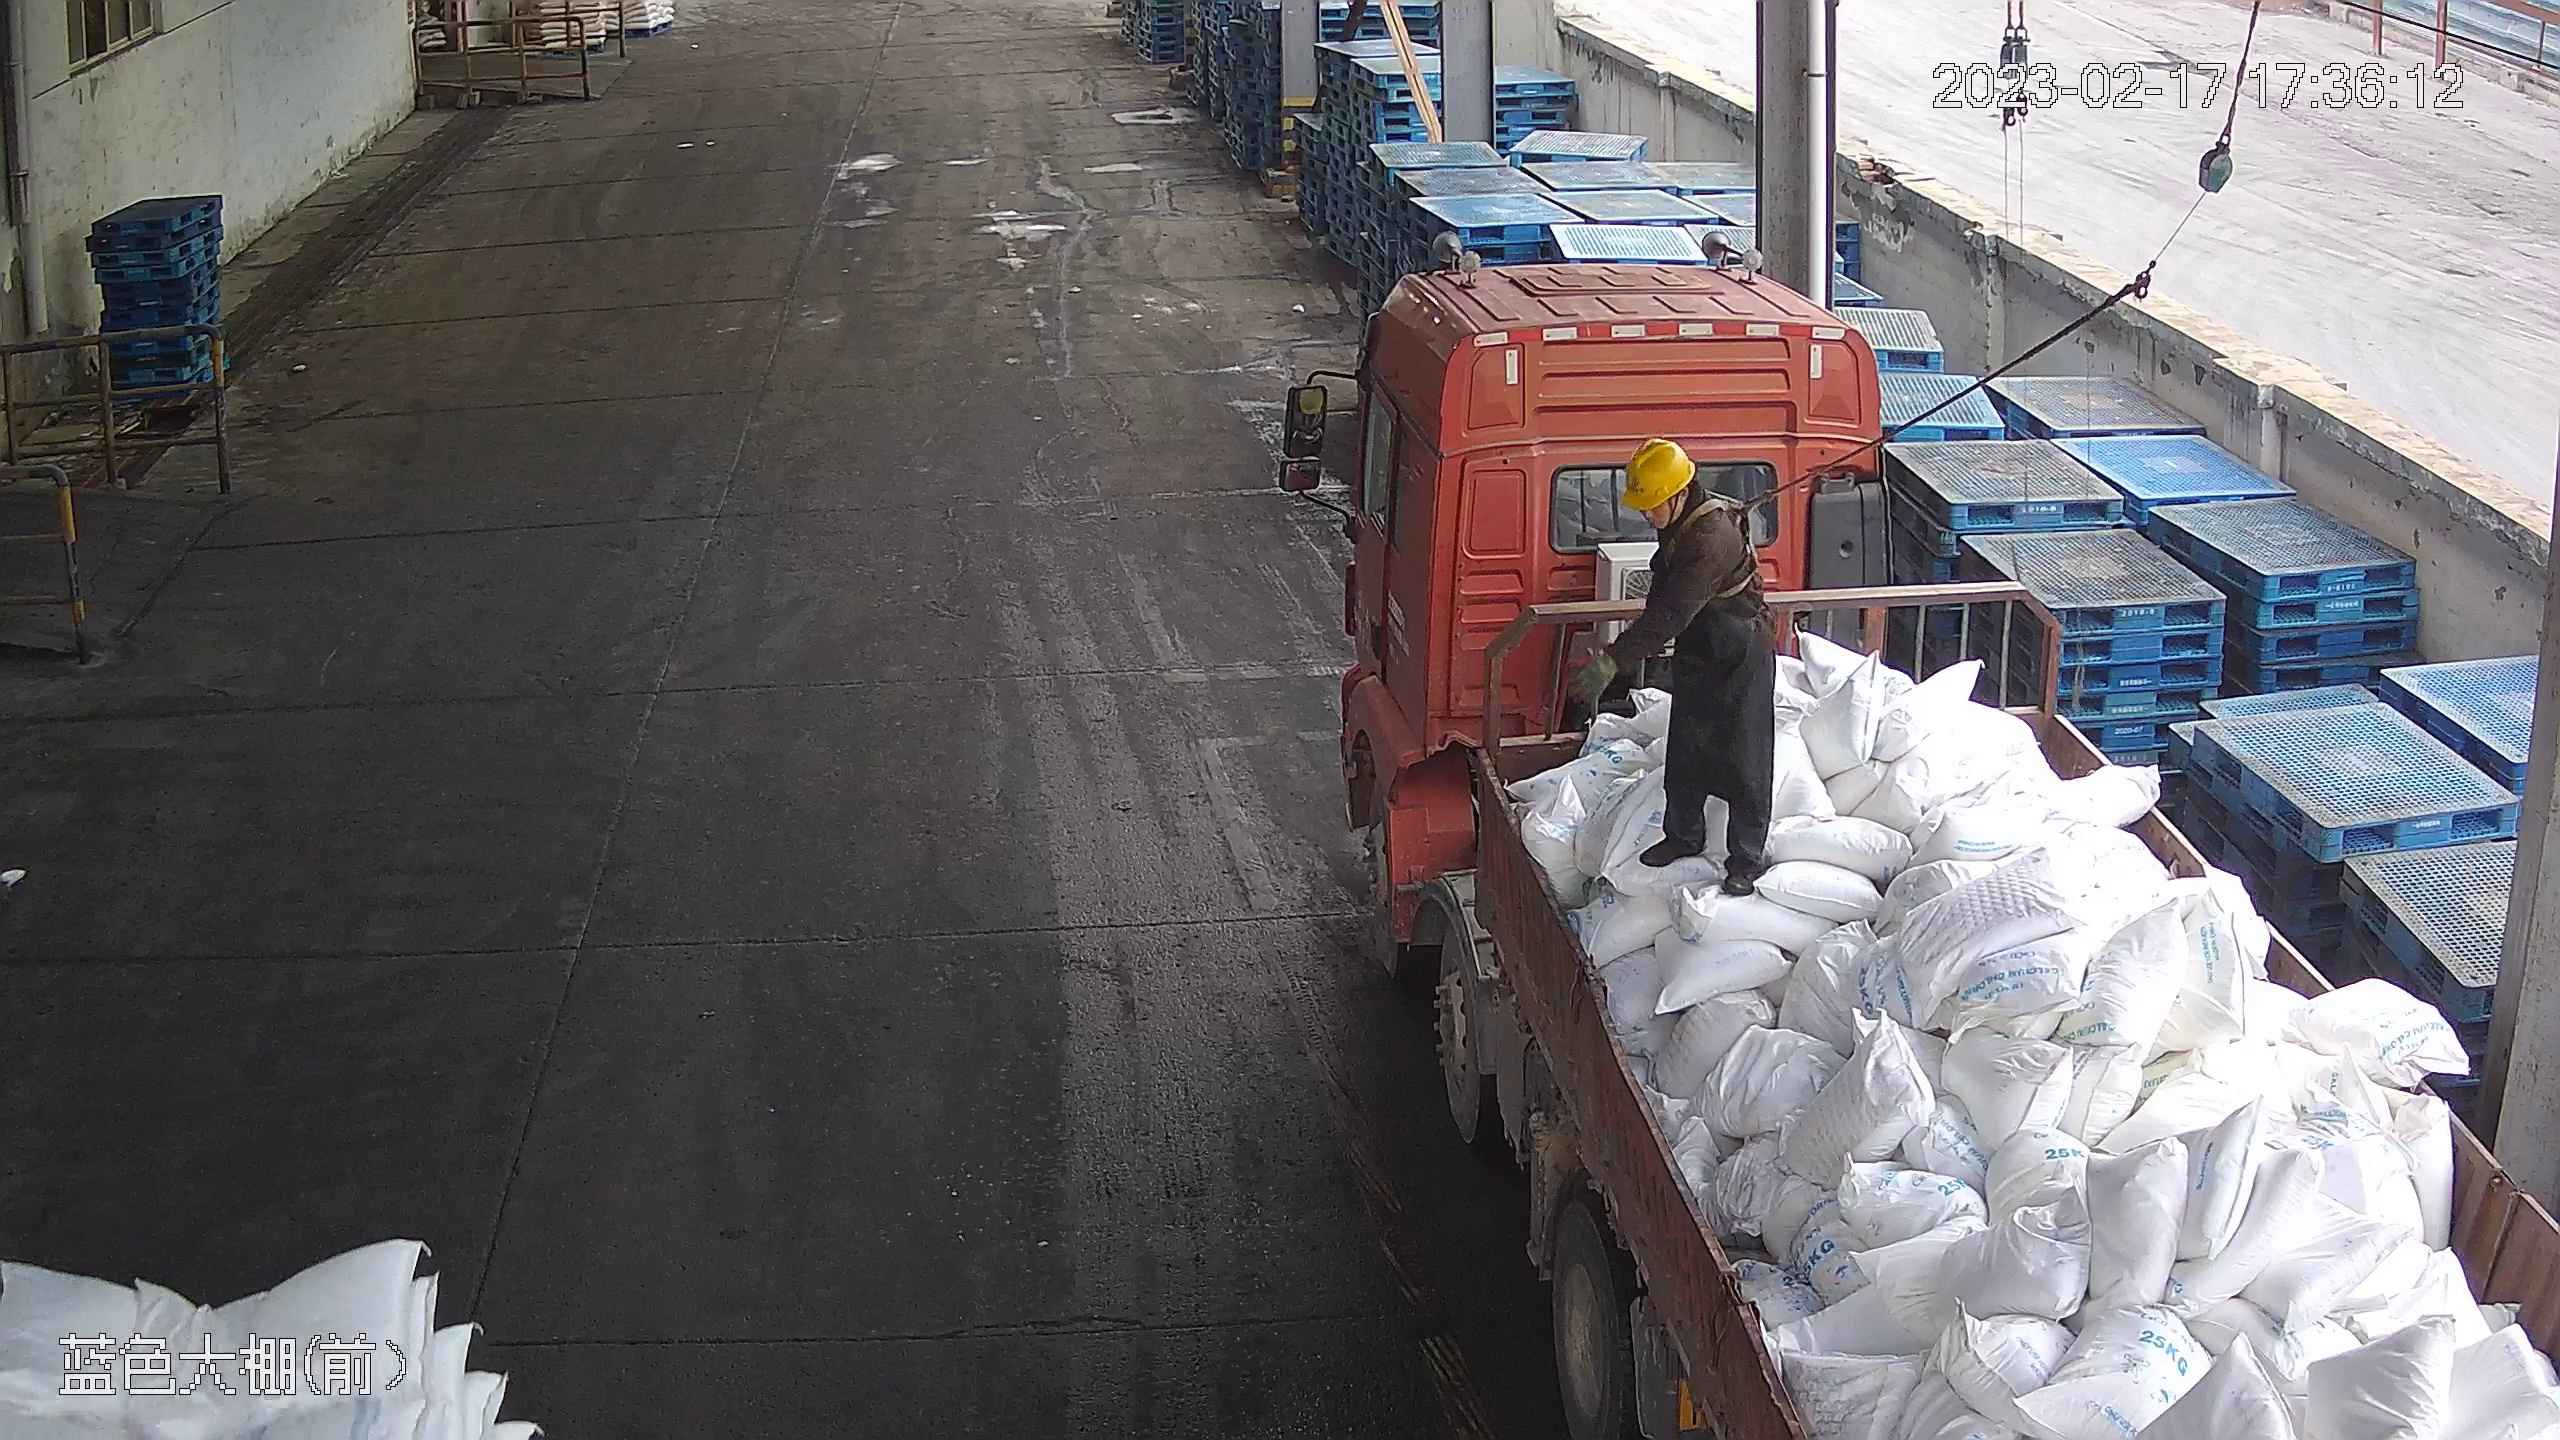belt: (1674, 475, 1776, 594)
head: (1610, 440, 1755, 591)
helmet: (1624, 439, 1695, 510)
people: (1567, 434, 1780, 898)
truck: (1276, 261, 2560, 1440)
